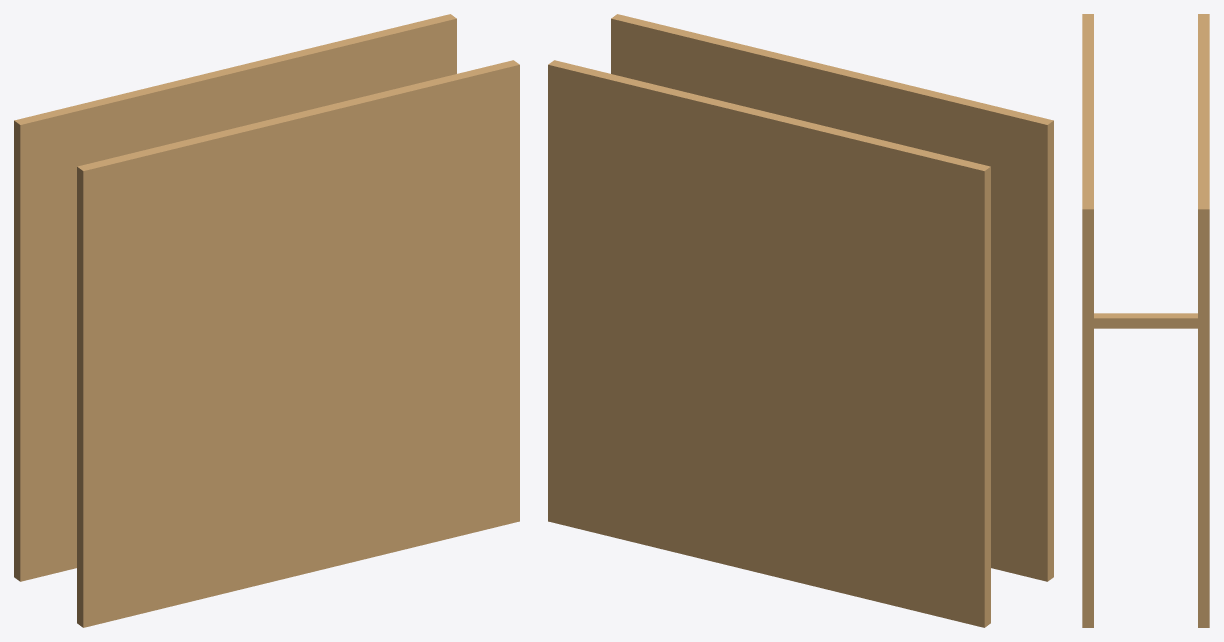
Rendered from board.glb.
The picture shows the model from 3 angles, left to right: view 1: azimuth 30°, elevation 25°; view 2: azimuth 150°, elevation 25°; view 3: azimuth 270°, elevation 25°; orthographic projection. The views are drawn at different scales.
Parts seen in each view (by area): view 1: Substrate_Layer_1, Substrate_Layer_0; view 2: Substrate_Layer_0, Substrate_Layer_1; view 3: Substrate_Layer_0, Substrate_Layer_1, Substrate_Layer_2.
Boxes of the visible parts, x1,y1,x2,y2 form: Substrate_Layer_1: (77, 60, 519, 627); Substrate_Layer_0: (14, 14, 456, 581); Substrate_Layer_0: (548, 60, 990, 627); Substrate_Layer_1: (611, 14, 1053, 581); Substrate_Layer_0: (1198, 14, 1209, 627); Substrate_Layer_1: (1082, 14, 1093, 627); Substrate_Layer_2: (1094, 313, 1197, 328).
Bounding box in the file's own units: 0.004 × 0.004 × 0.0011.
